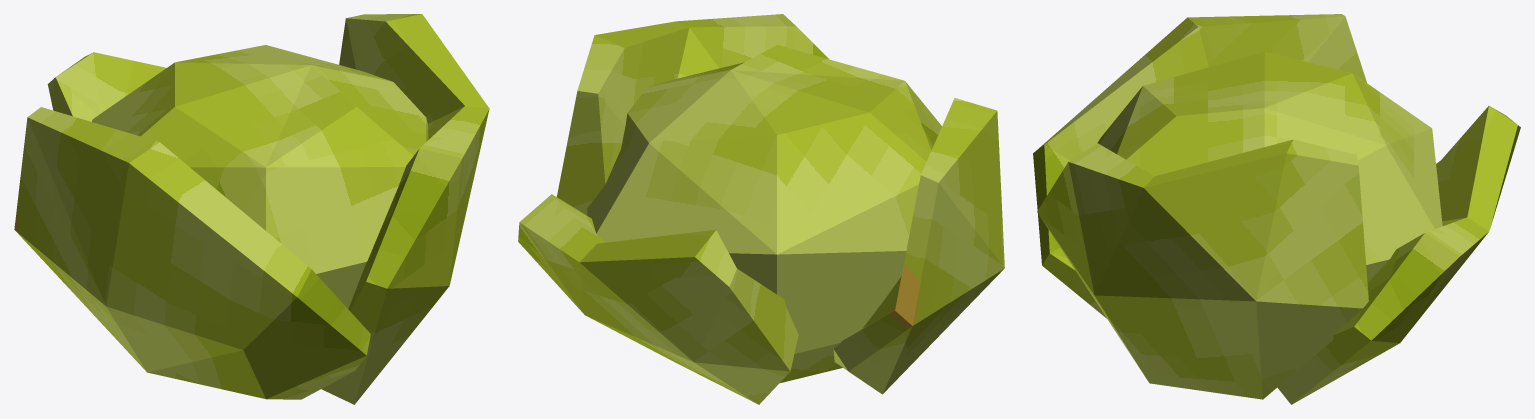
The model's file is SM_Prop_Food_Lettuce_Whole_01.glb.
3 renders of one model, left to right at view 1: azimuth 30°, elevation 25°; view 2: azimuth 150°, elevation 25°; view 3: azimuth 270°, elevation 25°, orthographic. The views are drawn at different scales.
Parts seen in each view (by area): view 1: SM_Prop_Food_Lettuce_Whole_01; view 2: SM_Prop_Food_Lettuce_Whole_01; view 3: SM_Prop_Food_Lettuce_Whole_01.
Boxes of the visible parts, <box> form: SM_Prop_Food_Lettuce_Whole_01: <box>14,14,489,404</box>; SM_Prop_Food_Lettuce_Whole_01: <box>518,14,1004,404</box>; SM_Prop_Food_Lettuce_Whole_01: <box>1033,14,1520,404</box>.
Bounding box in the file's own units: 0.2349 × 0.1705 × 0.2551.
1 material, 1 textured.
